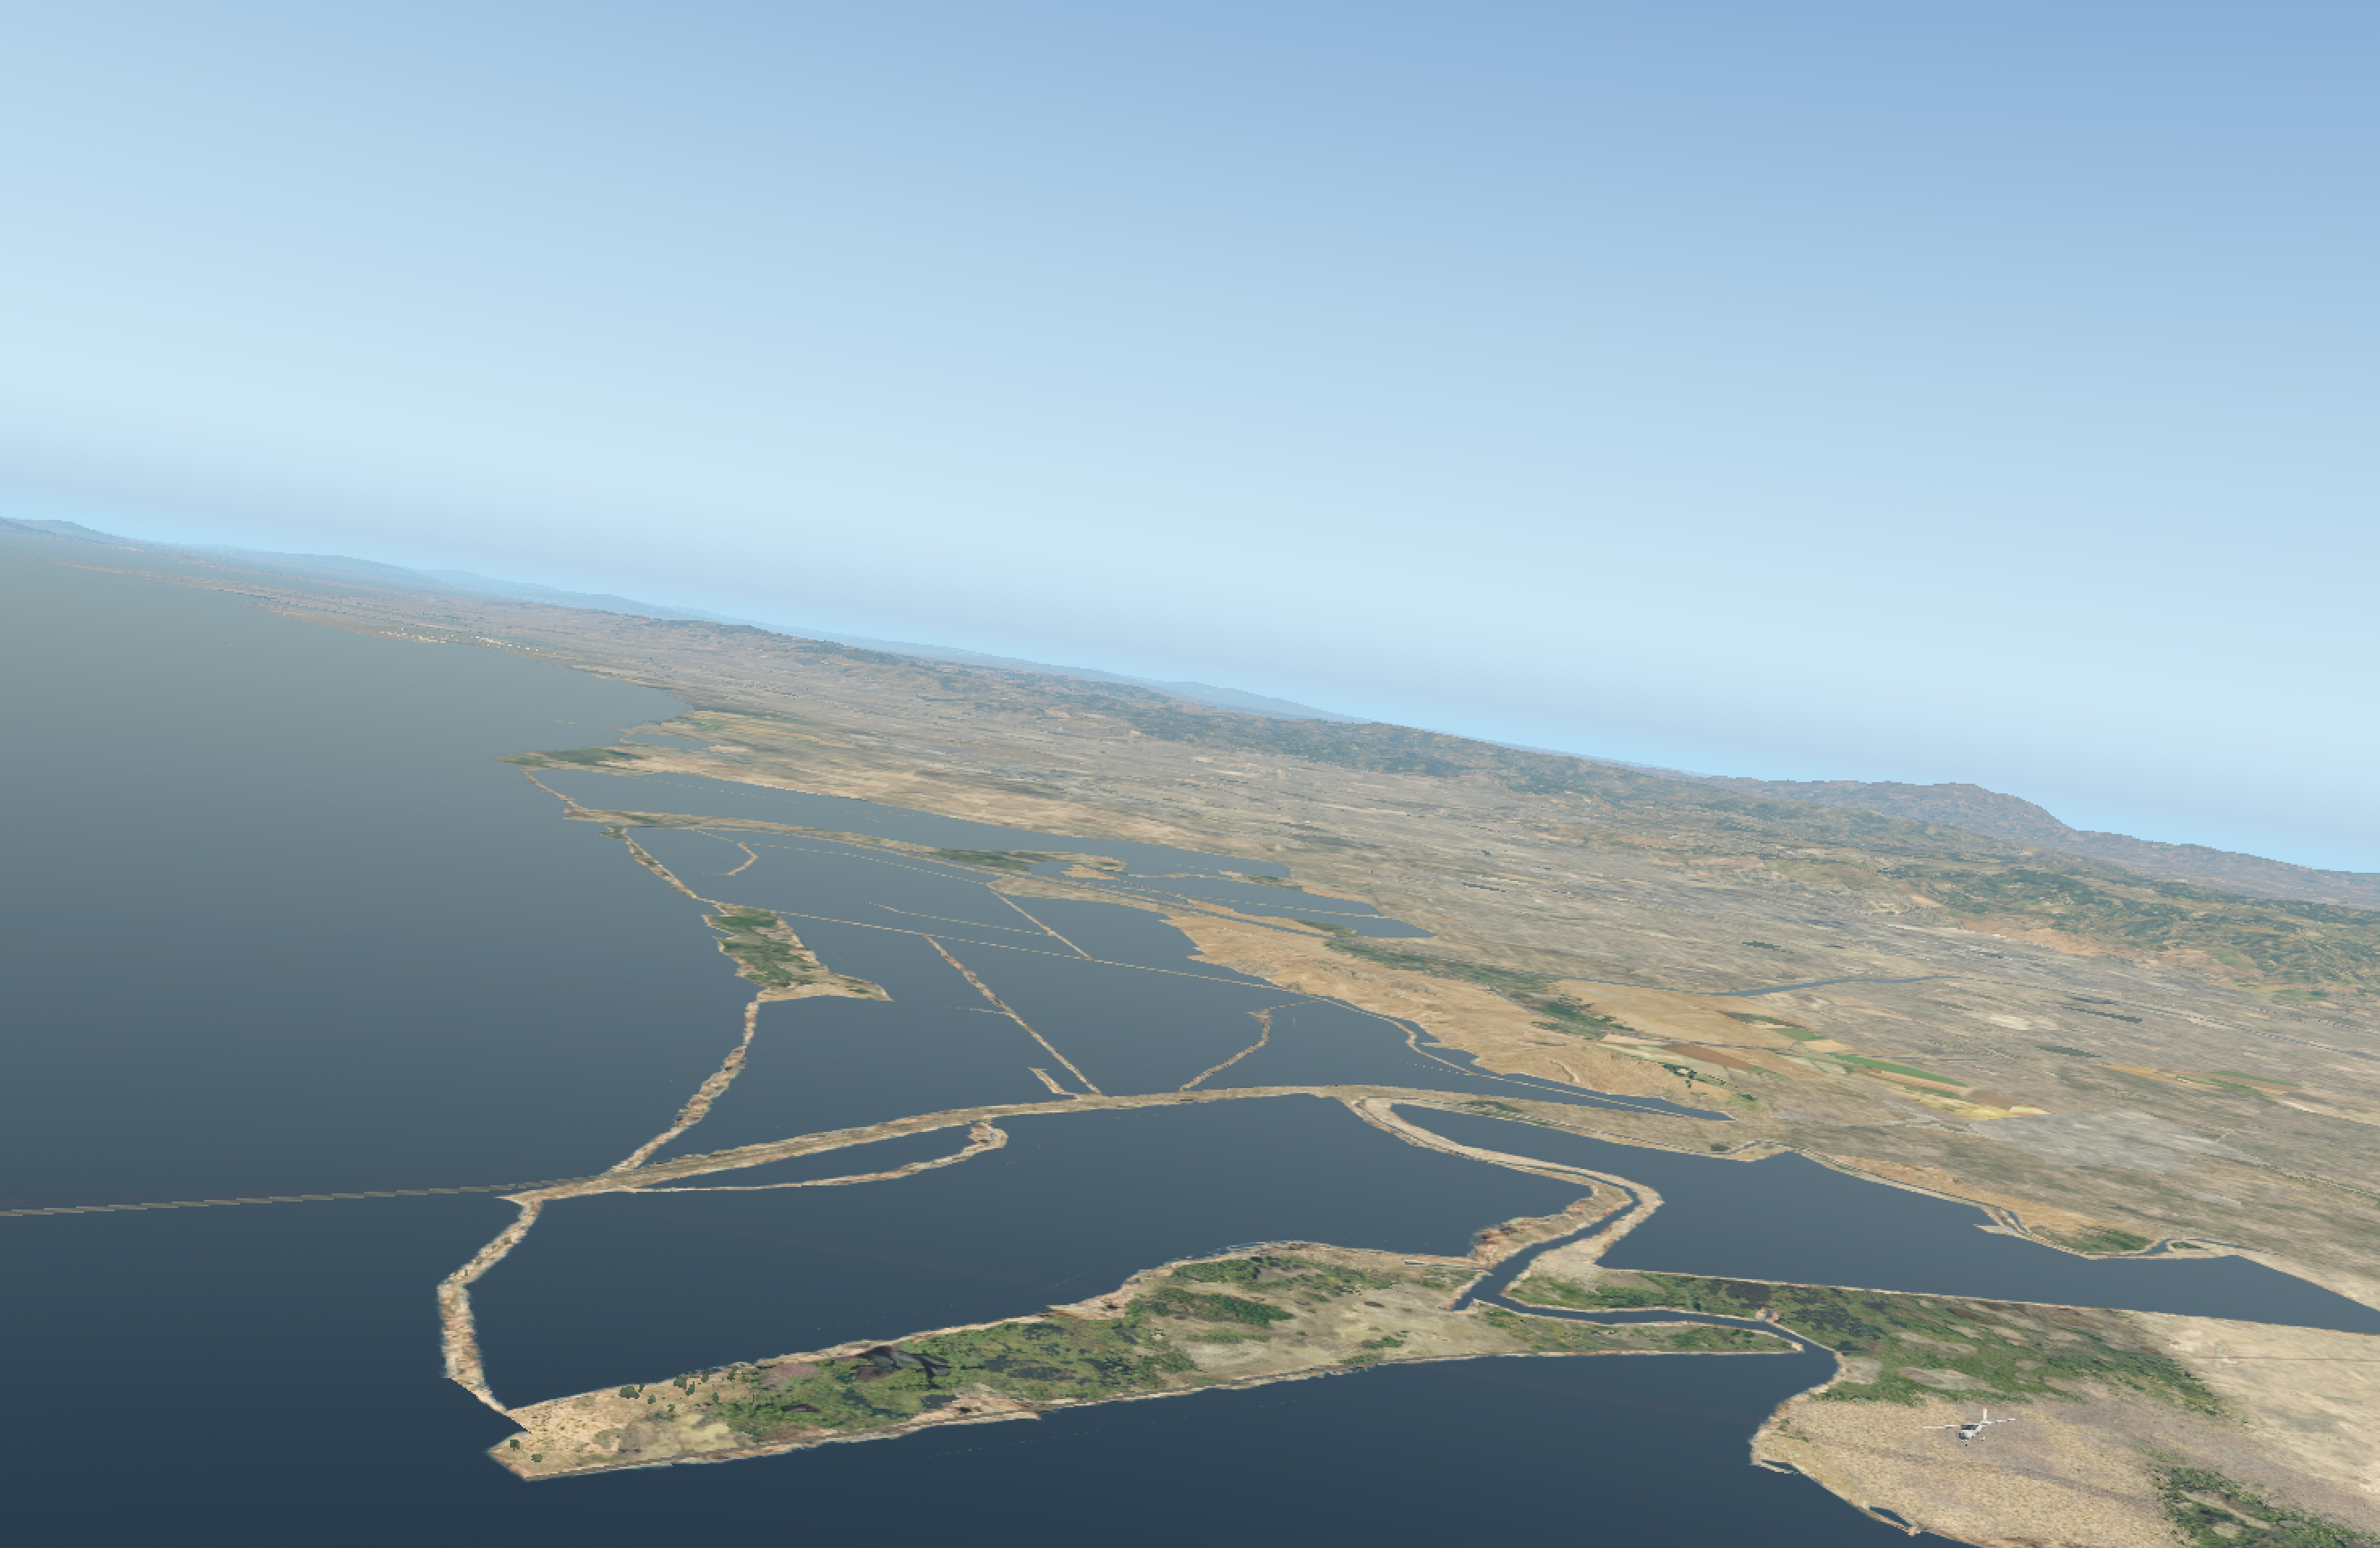aircraft: (1938, 1418, 2000, 1442)
